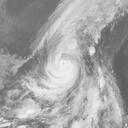cyclone: (24, 33, 85, 105)
